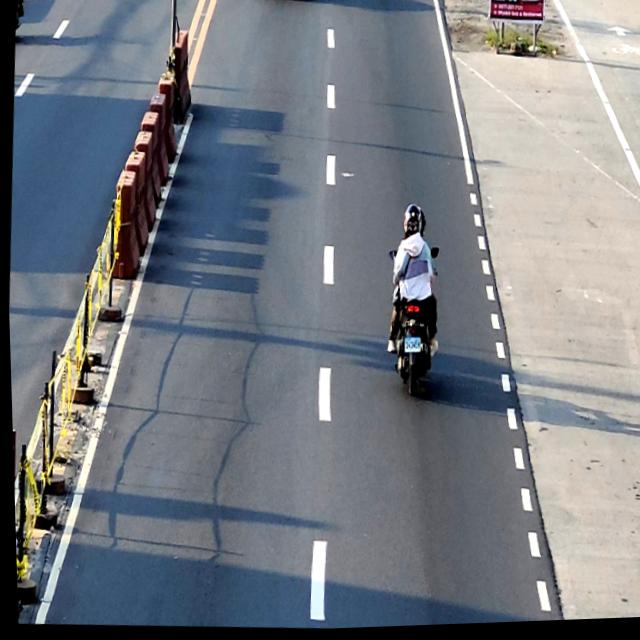License-Plate: (402, 342, 420, 357)
Motorcycle: (381, 249, 441, 402)
